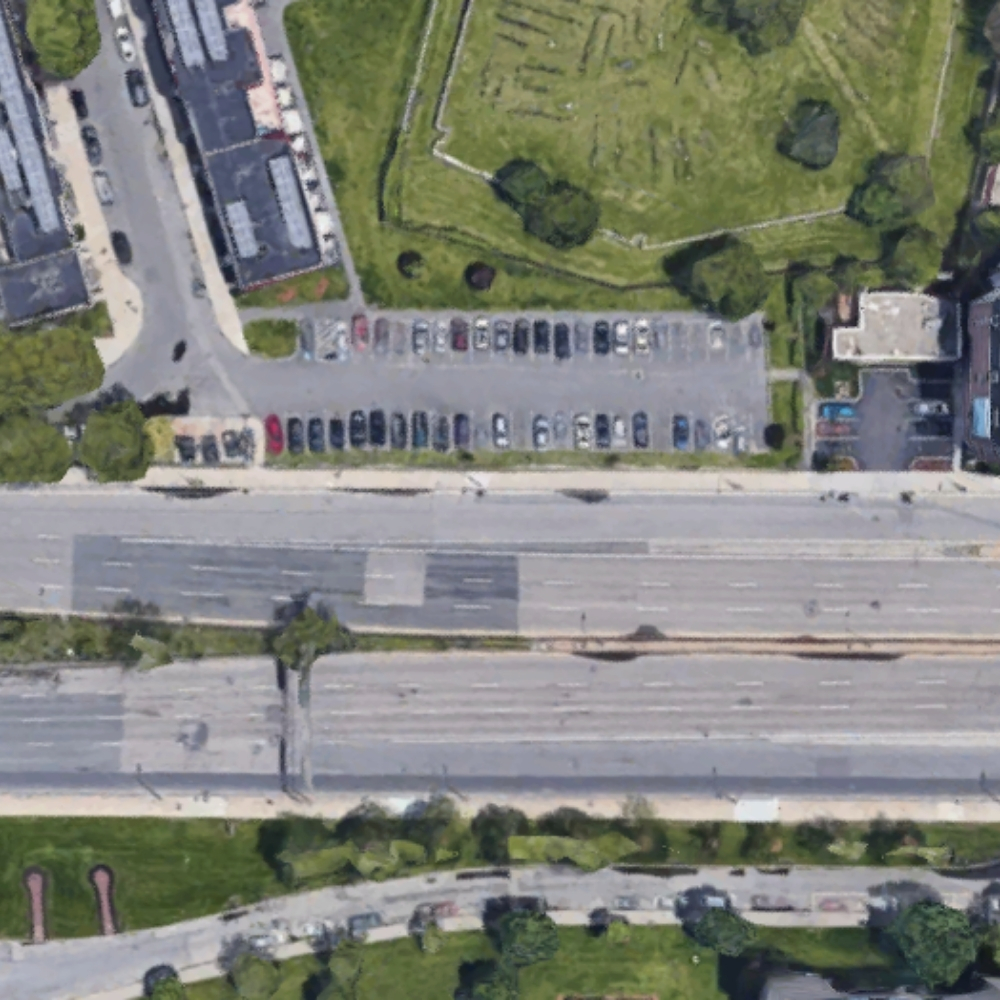parking: (245, 310, 770, 450), (815, 365, 950, 470)
